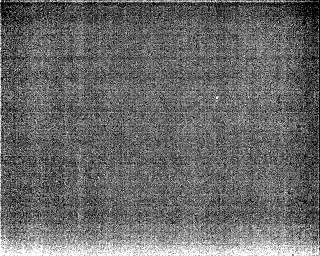BIRD: (214, 94, 221, 102)
